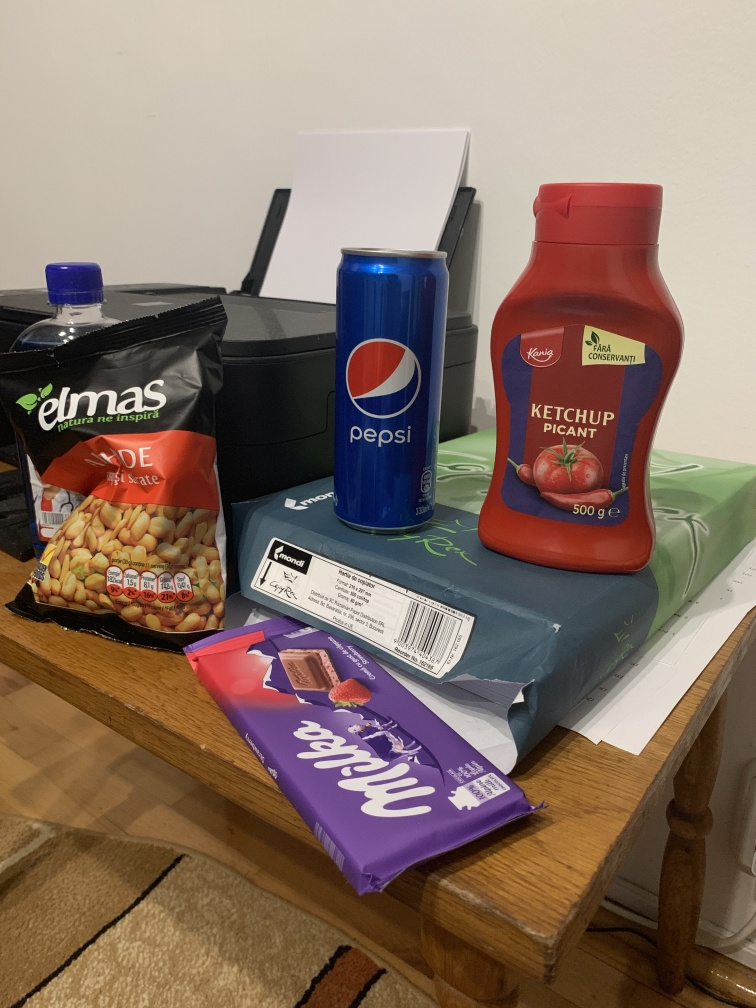ketchup: (477, 178, 687, 581)
milka: (190, 618, 553, 909)
peanuts: (7, 300, 233, 652)
pepsi: (331, 245, 453, 528)
